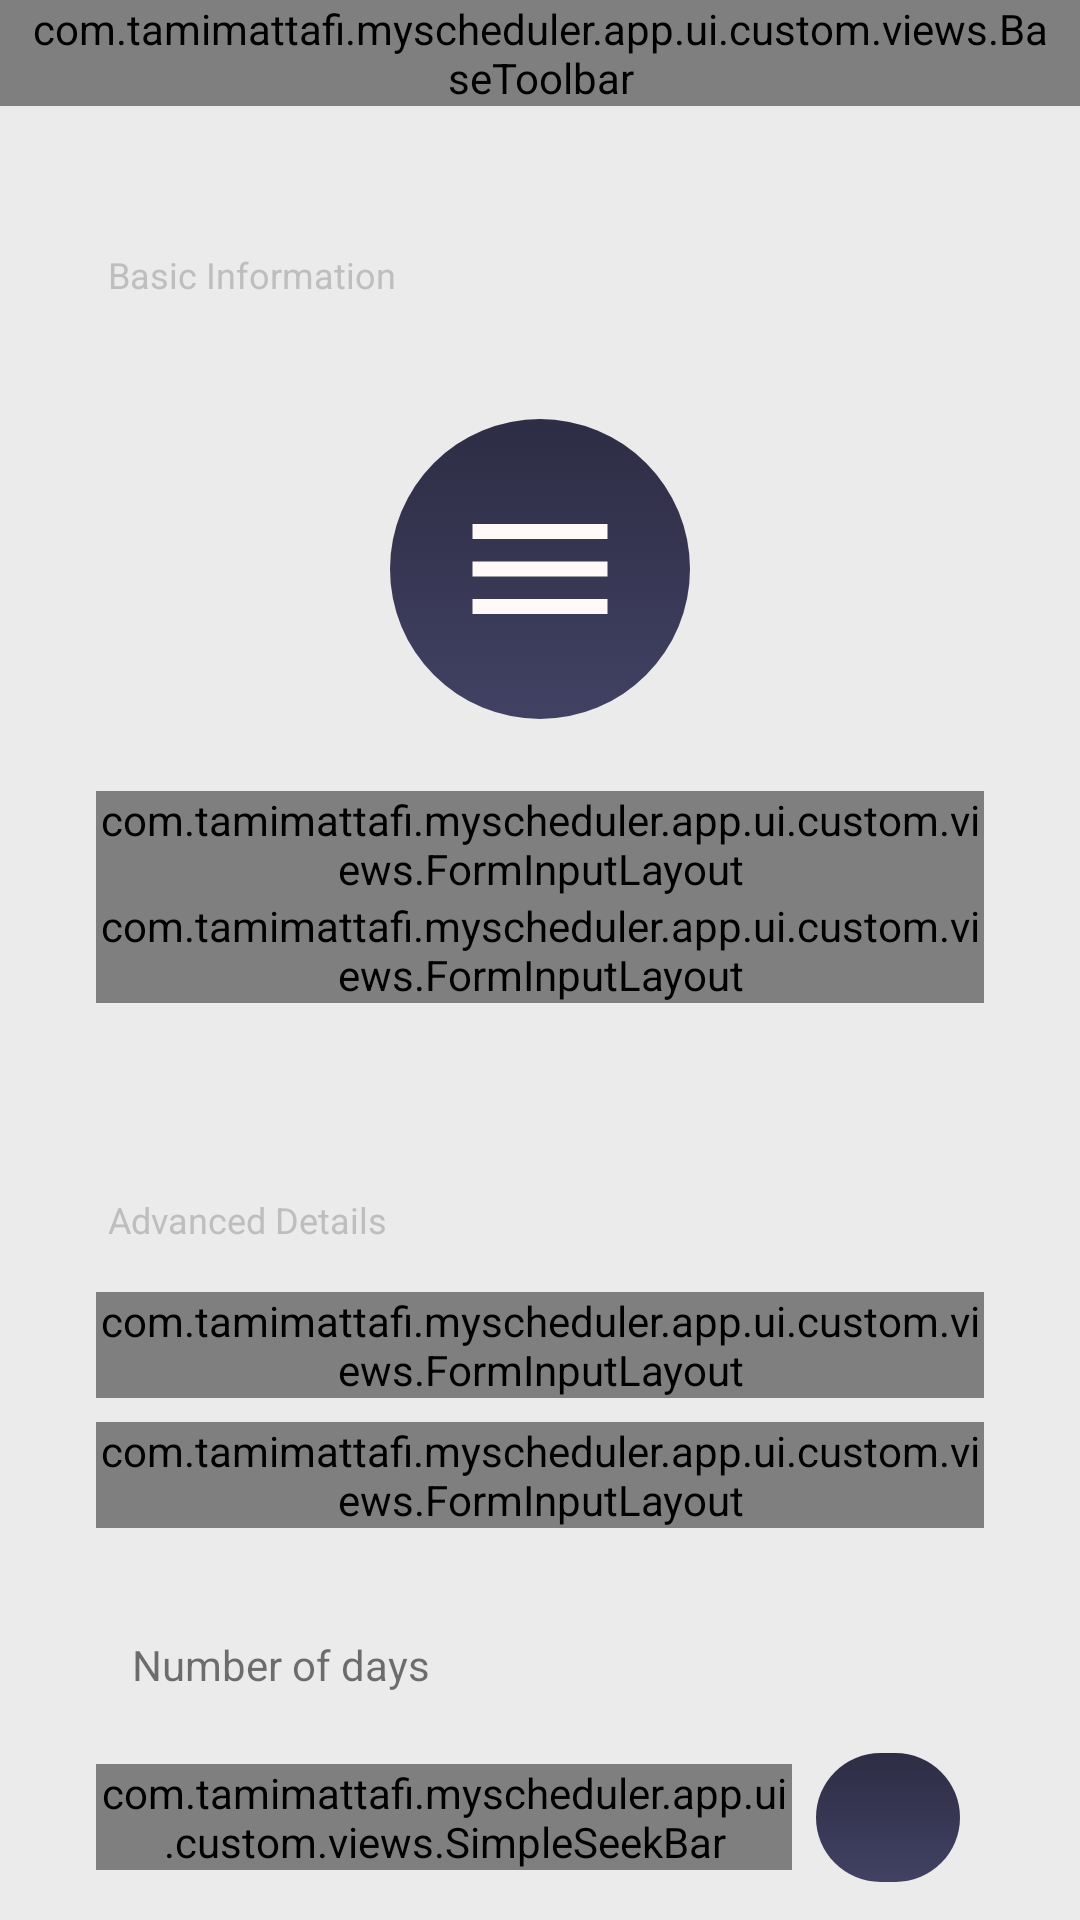

Locate icon controls on the screen. Image size 1080 x 1920, boxes as (left=x1, top=y1, right=x2, bottom=y2).
menu: (left=390, top=419, right=690, bottom=719)
